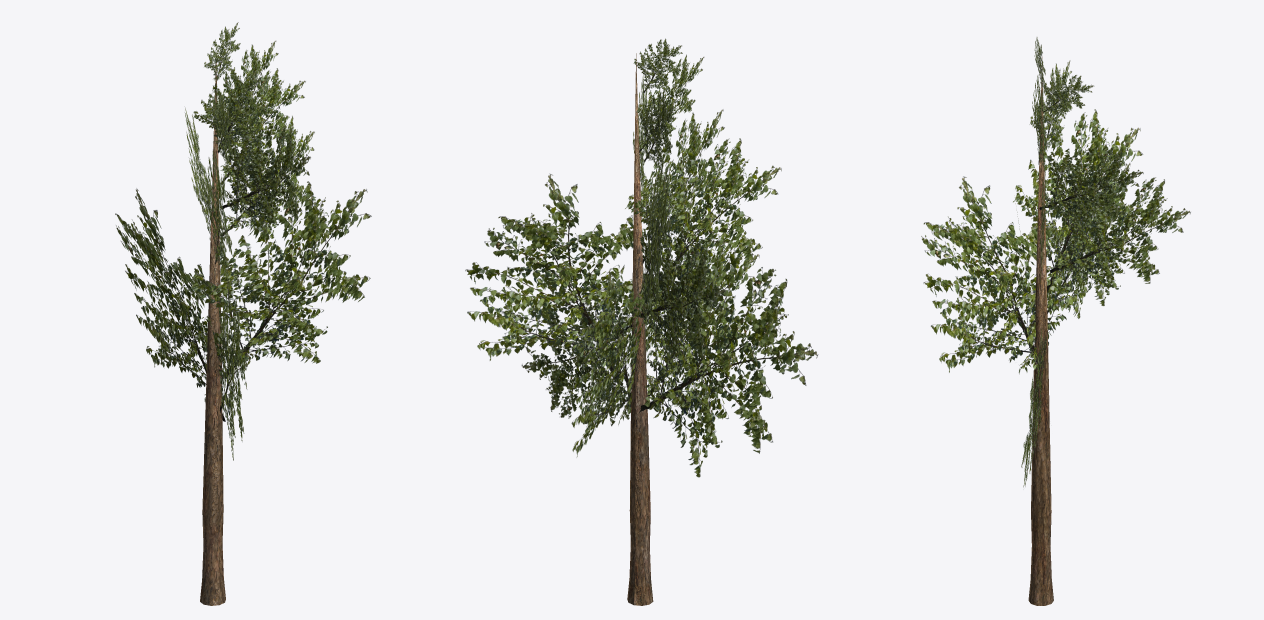
The model's file is tree_1.glb.
The picture shows the model from 3 angles, left to right: view 1: azimuth 30°, elevation 25°; view 2: azimuth 150°, elevation 25°; view 3: azimuth 270°, elevation 25°; orthographic projection.
Parts seen in each view (by area): view 1: Tree1; view 2: Tree1; view 3: Tree1.
Part boxes in pixels (x1=…): Tree1: x1=115, y1=22, x2=371, y2=605; Tree1: x1=465, y1=38, x2=818, y2=605; Tree1: x1=921, y1=37, x2=1190, y2=605.
Bounding box in the file's own units: 9.49 × 14.82 × 9.14.
2 materials, 2 textured.
